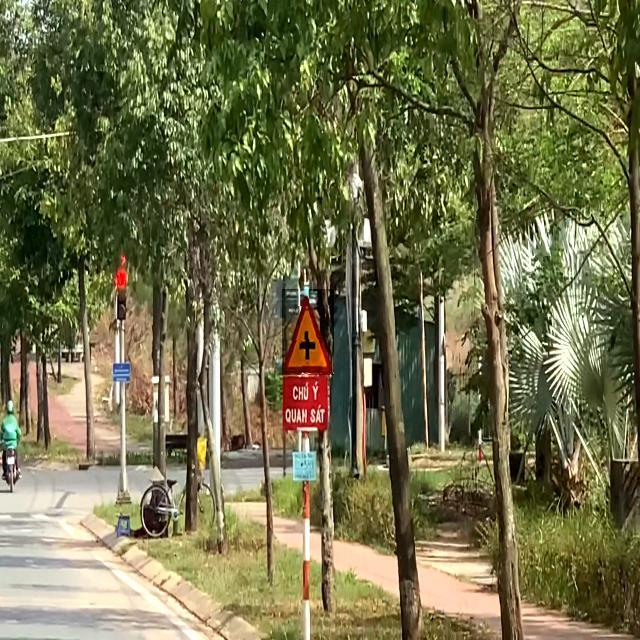W-205a: (282, 289, 334, 375)
